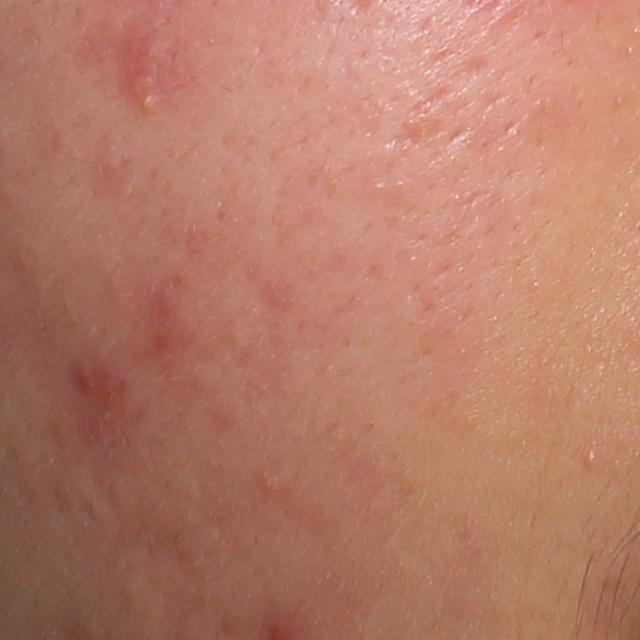comedo: (255, 463, 285, 492), (582, 450, 599, 468)
